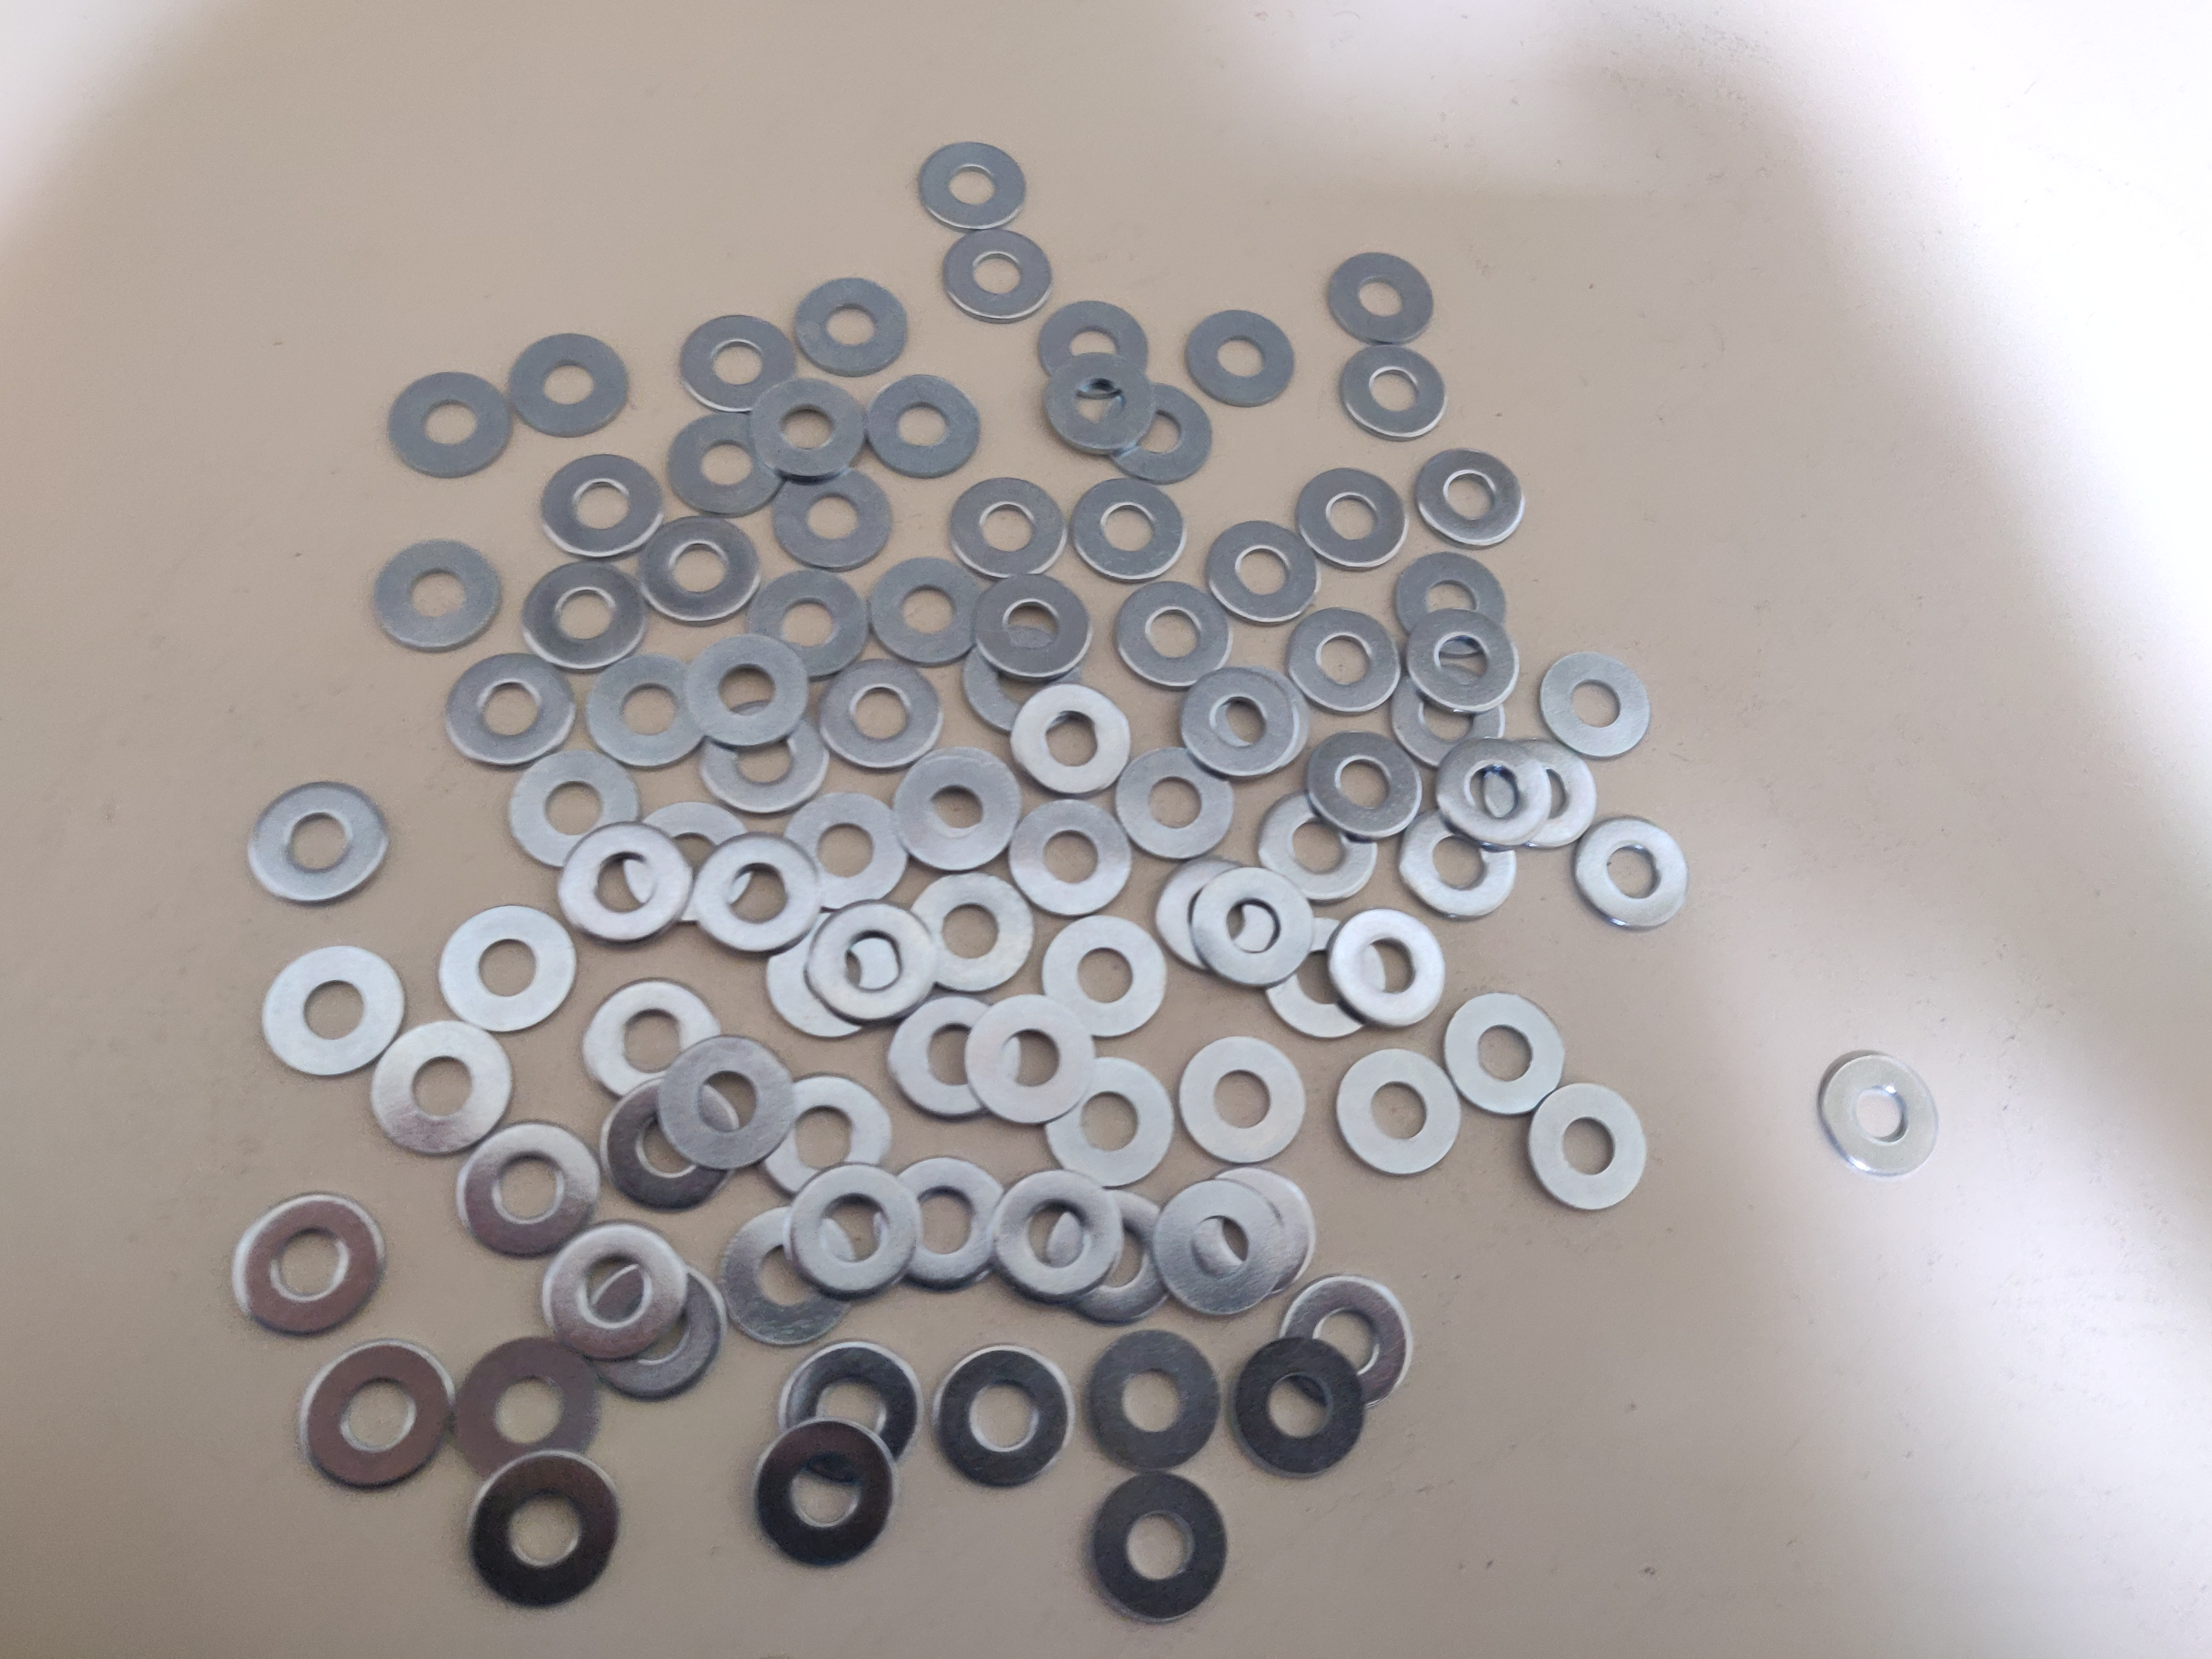circle: (469, 1452, 615, 1608), (232, 1192, 387, 1338), (303, 1340, 451, 1488), (455, 1335, 599, 1483), (752, 1419, 894, 1568), (540, 1222, 686, 1363), (453, 1121, 601, 1260), (779, 1340, 921, 1483), (258, 946, 408, 1080), (585, 1262, 728, 1399), (371, 1023, 516, 1159), (1090, 1474, 1224, 1619), (937, 1345, 1071, 1488), (1085, 1331, 1219, 1469), (603, 1075, 740, 1208), (653, 1037, 792, 1168), (723, 1206, 853, 1345), (1231, 1340, 1364, 1476), (1151, 1182, 1284, 1317), (784, 1164, 920, 1297), (439, 904, 577, 1035), (1277, 1279, 1409, 1413), (880, 1159, 1012, 1291), (766, 904, 895, 1040), (247, 779, 388, 903), (1042, 1060, 1174, 1188), (1045, 1190, 1172, 1324), (582, 979, 723, 1100), (991, 1171, 1122, 1300), (1338, 1047, 1463, 1180), (968, 995, 1094, 1127), (559, 824, 691, 950), (1179, 1037, 1306, 1166), (691, 829, 820, 955), (510, 753, 641, 877), (761, 1075, 890, 1199), (890, 997, 1022, 1117), (1184, 1171, 1318, 1290), (780, 791, 907, 913), (895, 748, 1017, 873), (1442, 992, 1564, 1115), (1529, 1082, 1646, 1211), (1193, 864, 1313, 988), (1268, 917, 1386, 1042), (1045, 918, 1165, 1040), (1818, 1053, 1937, 1176), (702, 701, 829, 816), (371, 540, 502, 652), (1010, 798, 1132, 917), (911, 873, 1033, 992), (686, 634, 808, 751), (446, 652, 573, 763), (1327, 906, 1447, 1023), (1010, 681, 1130, 798), (1157, 859, 1277, 972), (819, 660, 942, 770), (1258, 791, 1376, 904), (1573, 816, 1688, 931), (770, 462, 890, 572), (1113, 582, 1233, 692), (388, 371, 510, 479), (641, 514, 758, 626), (1306, 732, 1421, 843), (1404, 809, 1515, 924), (589, 657, 707, 765), (540, 455, 662, 559), (523, 561, 644, 666), (1120, 748, 1233, 859), (1437, 737, 1550, 847), (1484, 735, 1597, 845), (749, 572, 866, 678), (1289, 606, 1402, 714), (667, 410, 782, 516), (509, 333, 627, 436), (1536, 652, 1648, 760), (977, 573, 1090, 680), (1202, 521, 1318, 624), (1184, 667, 1294, 775), (967, 626, 1078, 732), (1407, 608, 1521, 713), (1073, 477, 1186, 582), (949, 477, 1066, 579), (747, 378, 864, 479), (1198, 666, 1308, 772), (1395, 552, 1507, 657), (869, 376, 981, 481), (1035, 300, 1148, 403), (869, 558, 977, 664), (1393, 666, 1505, 769), (1042, 355, 1155, 455), (1104, 382, 1216, 481), (794, 279, 906, 378), (1413, 450, 1526, 547), (681, 317, 798, 411), (1186, 310, 1296, 410), (1299, 469, 1407, 566), (946, 228, 1054, 322), (1338, 345, 1446, 439), (1327, 253, 1432, 345), (918, 141, 1028, 225)
